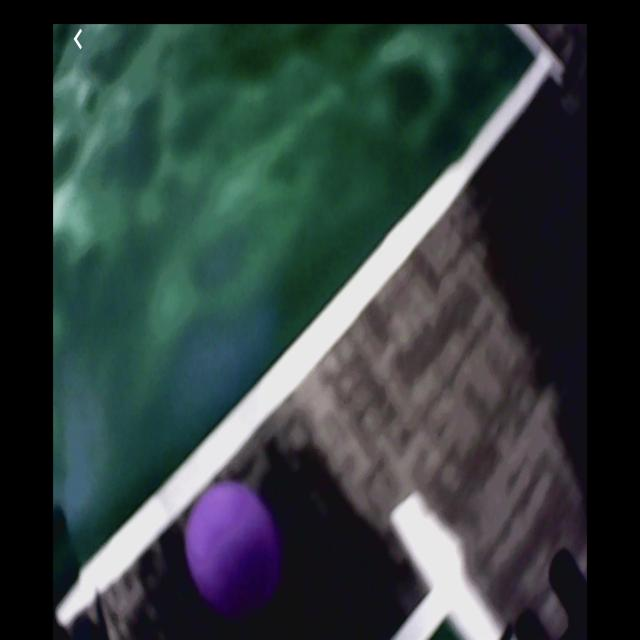ball: (187, 482, 282, 614)
